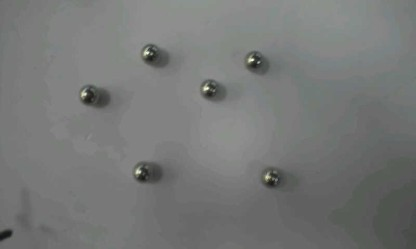ironball: (78, 83, 99, 105), (132, 160, 153, 182), (139, 42, 159, 62), (260, 166, 279, 187), (243, 49, 263, 68), (199, 78, 218, 98)
